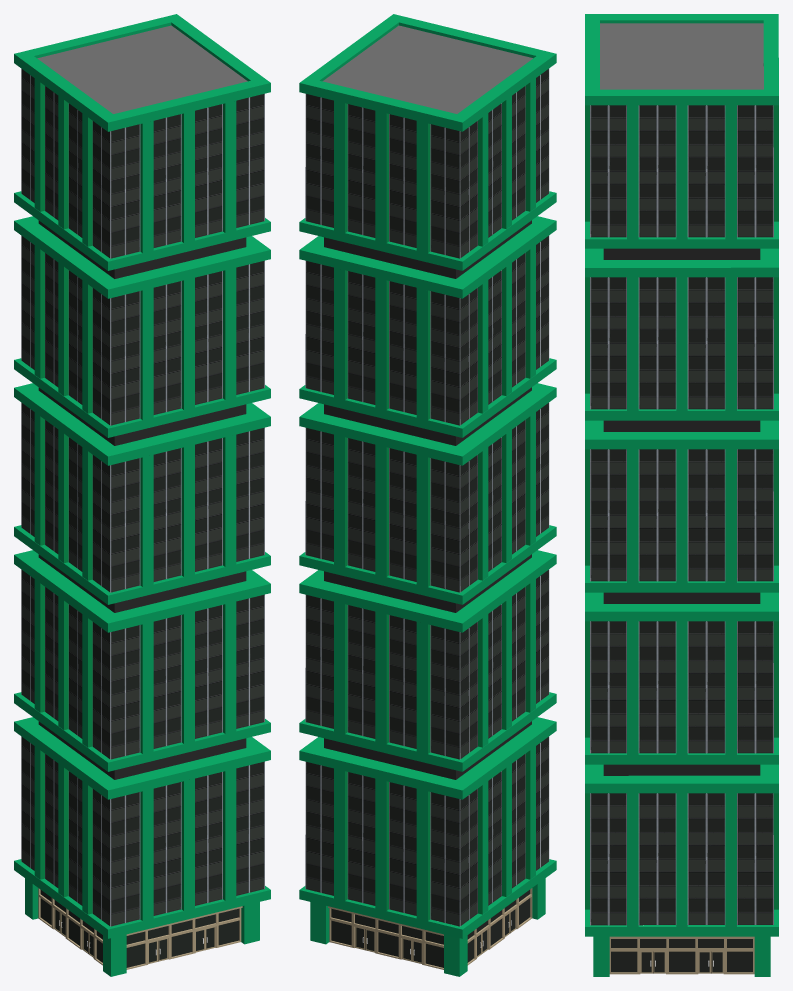
The picture shows the model from 3 angles, left to right: view 1: azimuth 30°, elevation 25°; view 2: azimuth 150°, elevation 25°; view 3: azimuth 270°, elevation 25°; orthographic projection. The views are drawn at different scales.
Visible parts, largest first — view 1: EC-08; view 2: EC-08; view 3: EC-08.
Boxes of the visible parts, <box> form: EC-08: <box>14,14,270,976</box>; EC-08: <box>299,14,556,976</box>; EC-08: <box>585,14,778,976</box>.
Size of what is drawn, in the model's own units: 18.39 by 92.6 by 18.4.
